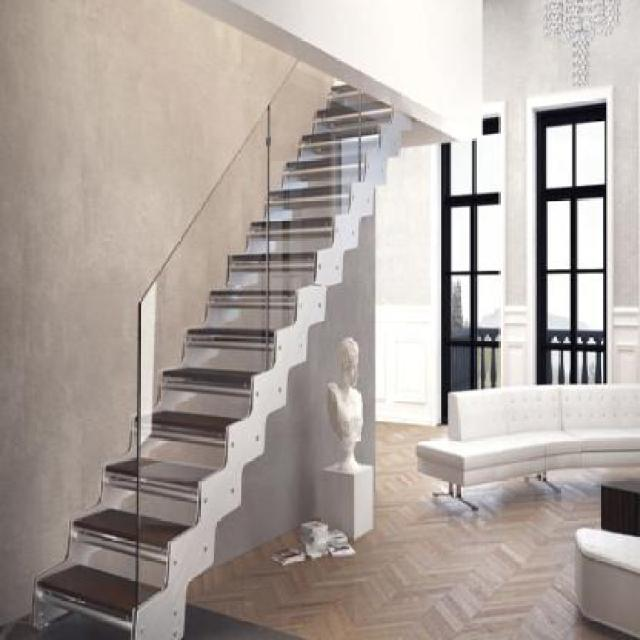stair: (22, 72, 409, 639)
